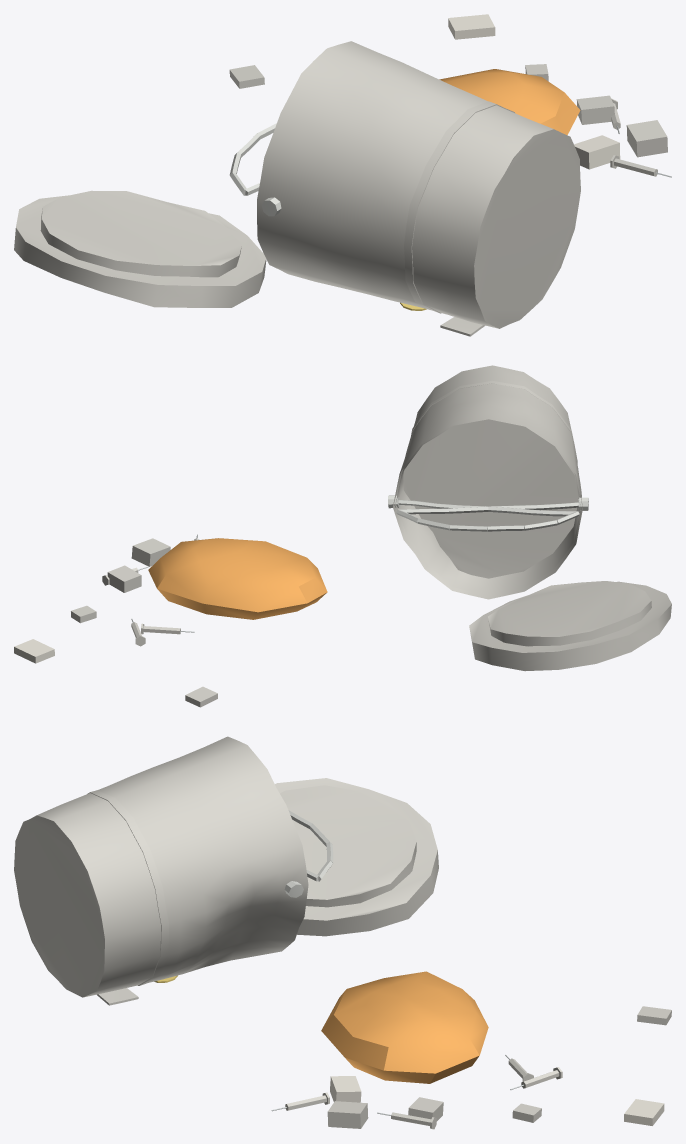
File: waste_bucket_broken.fbx
3 renders of one model, top to bottom at view 1: azimuth 30°, elevation 25°; view 2: azimuth 150°, elevation 25°; view 3: azimuth 270°, elevation 25°, orthographic. The views are drawn at different scales.
Visible parts, largest first — view 1: waste_bucket_broken, waste_bucket_broken_debris; view 2: waste_bucket_broken, waste_bucket_broken_debris; view 3: waste_bucket_broken, waste_bucket_broken_debris.
Part boxes in pixels (<box>): waste_bucket_broken: <box>229,41,580,336</box>; waste_bucket_broken_debris: <box>14,14,671,307</box>; waste_bucket_broken: <box>388,365,588,599</box>; waste_bucket_broken_debris: <box>14,534,671,707</box>; waste_bucket_broken: <box>14,736,333,1005</box>; waste_bucket_broken_debris: <box>271,778,671,1129</box>.
Bounding box in the file's own units: 124 × 42 × 118.
